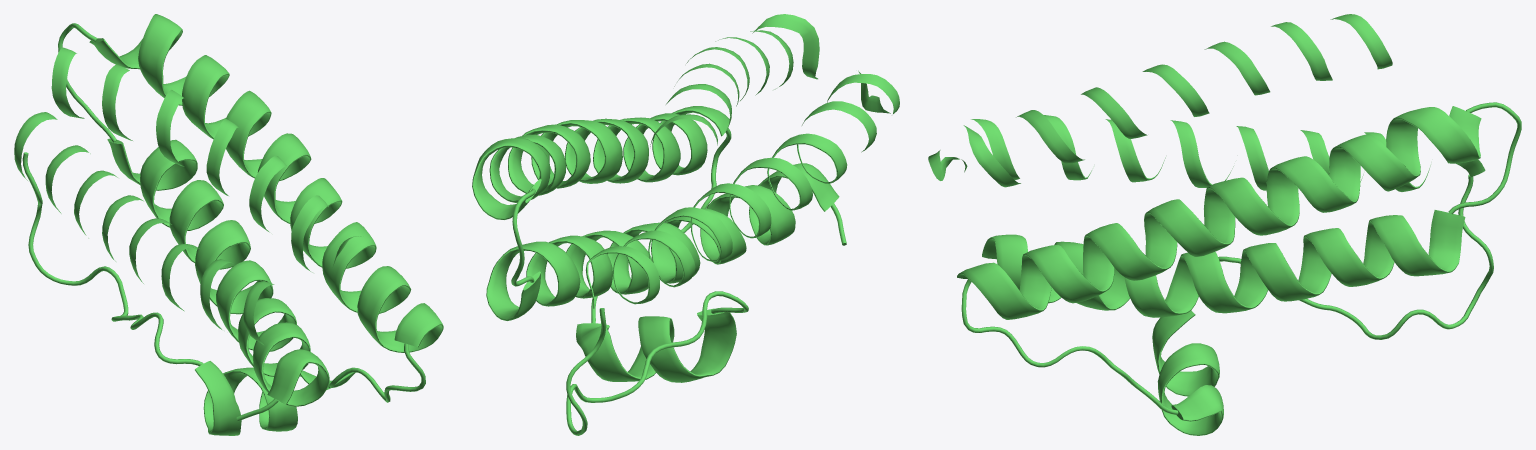
3 renders of one model, left to right at view 1: azimuth 30°, elevation 25°; view 2: azimuth 150°, elevation 25°; view 3: azimuth 270°, elevation 25°, orthographic. The views are drawn at different scales.
Visible parts, largest first — view 1: node-geom0; view 2: node-geom0; view 3: node-geom0.
Part boxes in pixels (x1,y1,x2,y2): node-geom0: (14, 14, 443, 435); node-geom0: (472, 14, 899, 435); node-geom0: (928, 14, 1521, 435).
Bounding box in the file's own units: 20.92 × 31.48 × 48.33.
